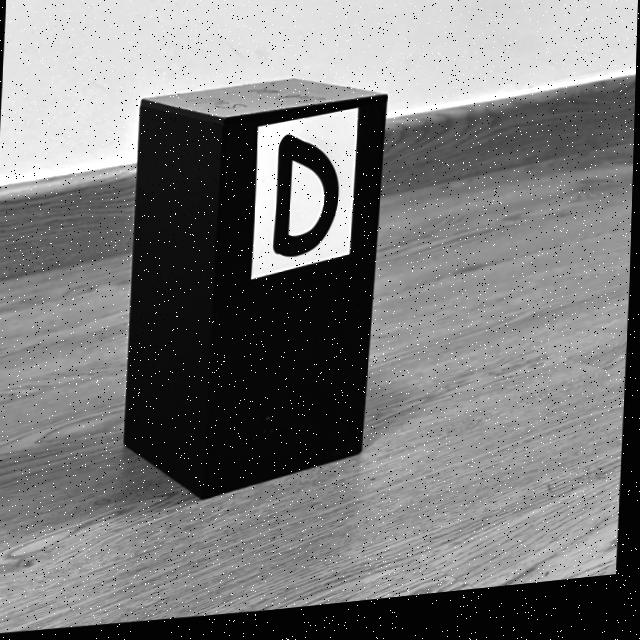D: (274, 140, 339, 262)
